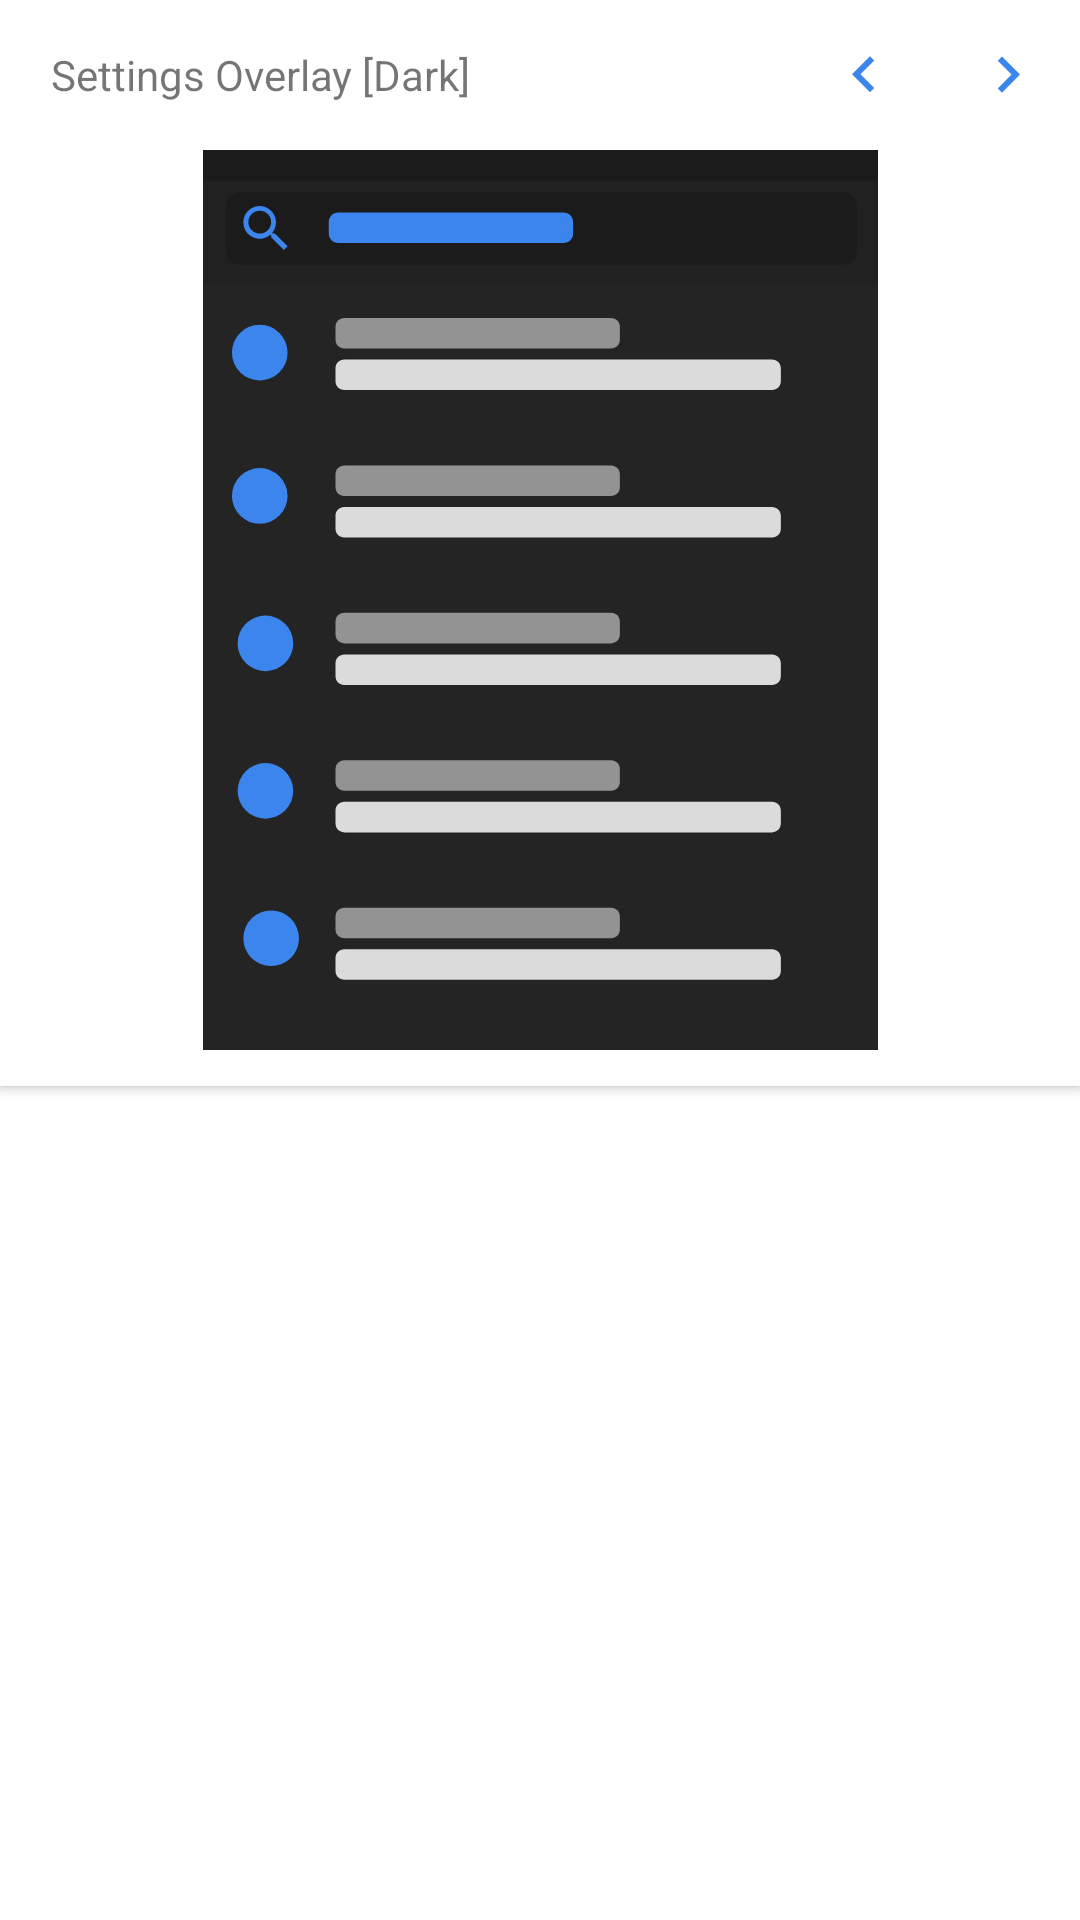

Icons on this 1080w x 1920h Android screen, each with the point to tap as (x,y):
left: (863,74)
right: (1009,74)
